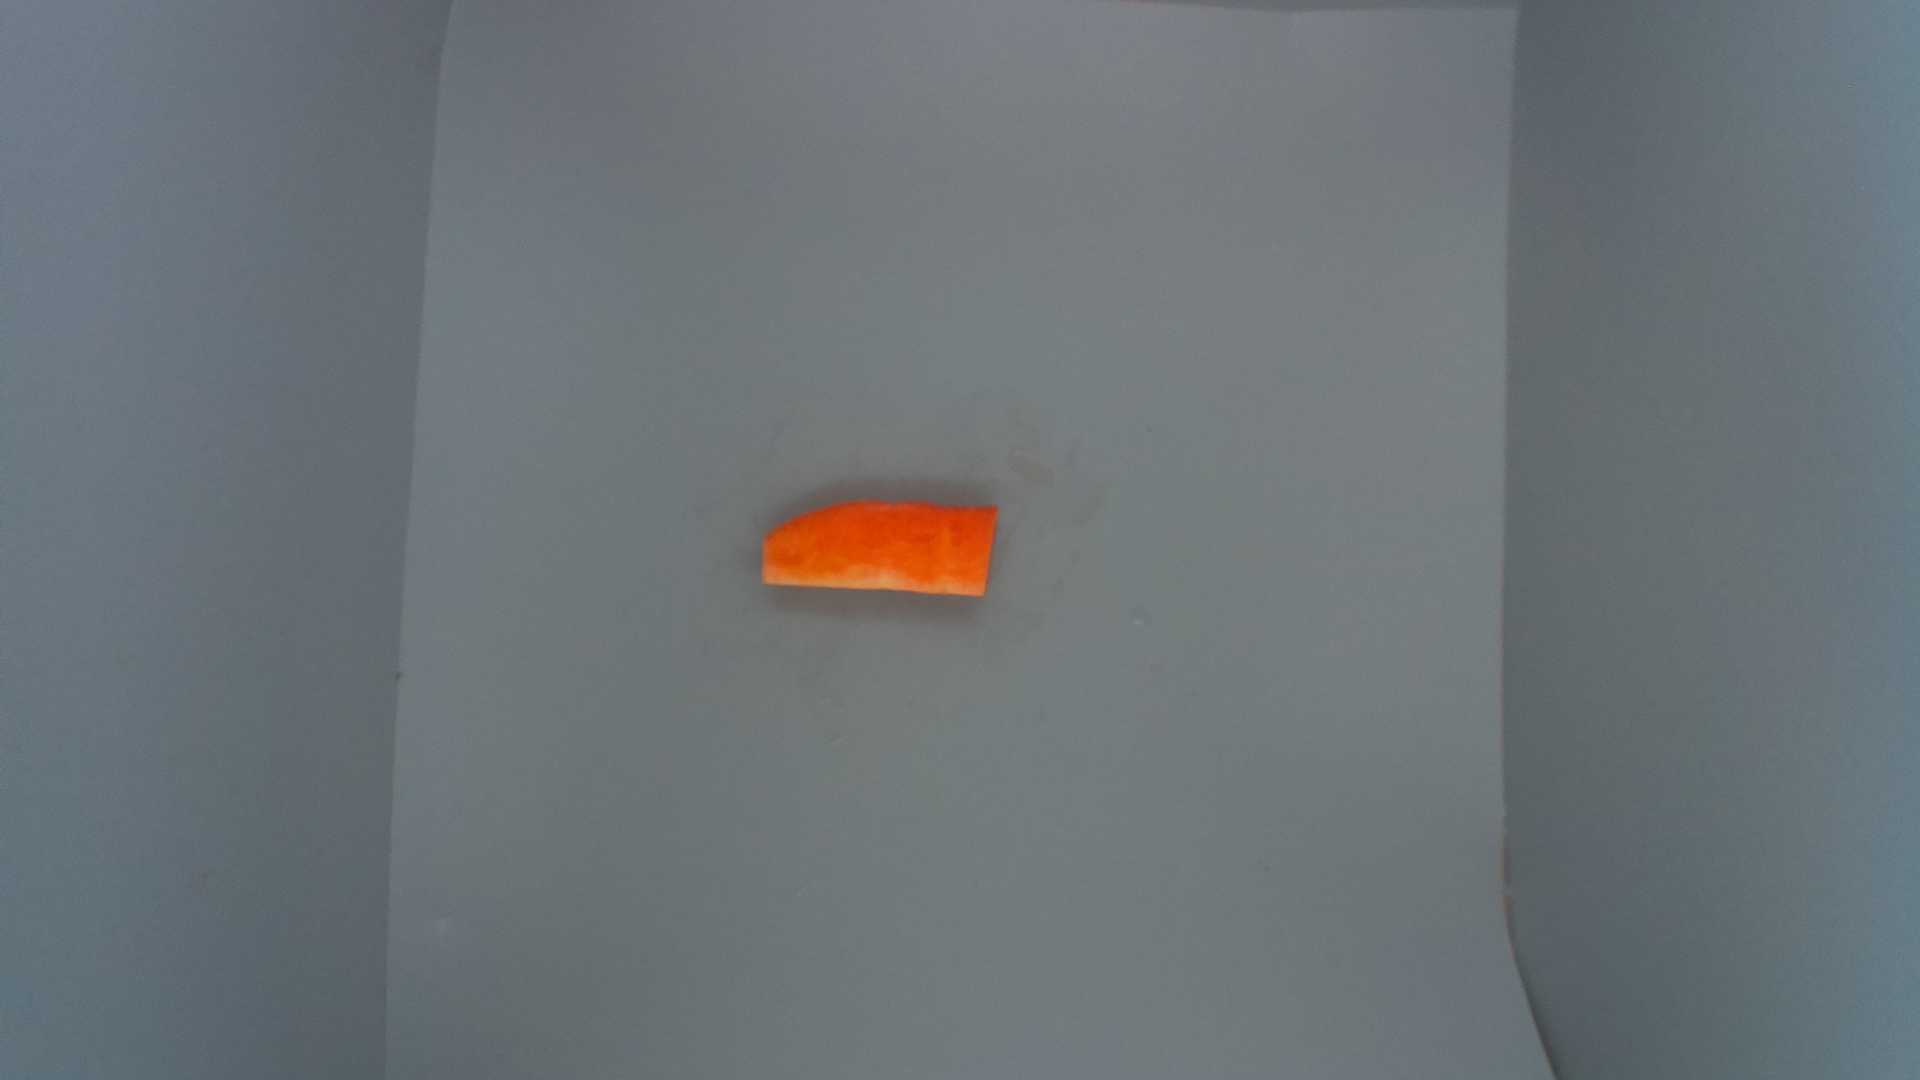carrot: (756, 497, 1010, 604)
